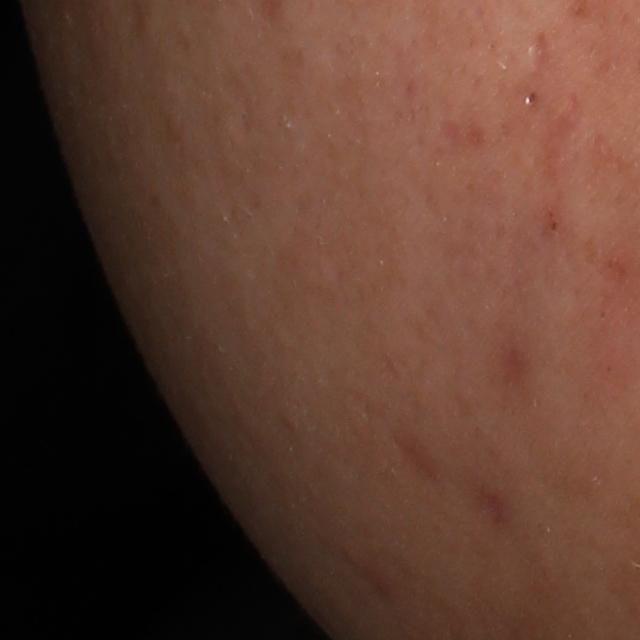atrophic_scar: (535, 97, 589, 180), (388, 427, 445, 492), (527, 28, 557, 82)
comedo: (524, 90, 538, 105)
